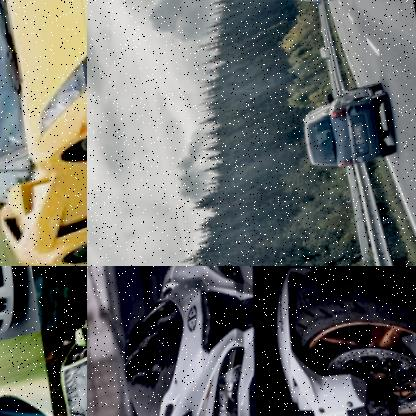bike: (94, 266, 416, 416)
car: (296, 80, 403, 184), (50, 294, 87, 416), (294, 0, 352, 14)
